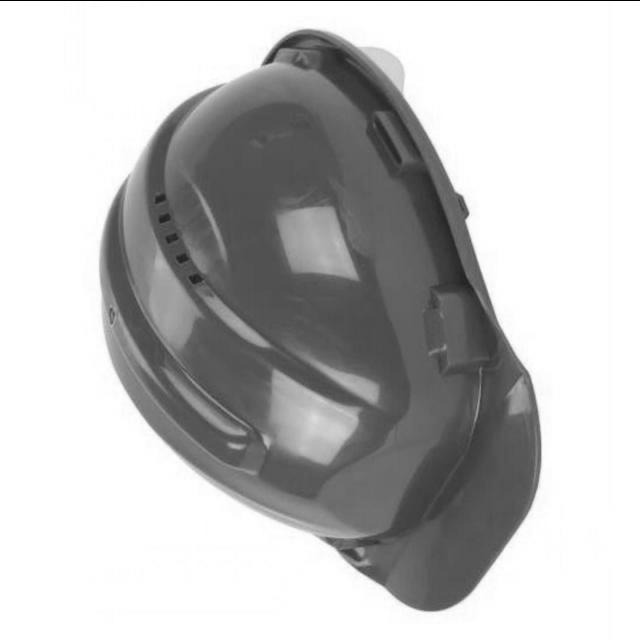construction helmet: (100, 26, 546, 612)
